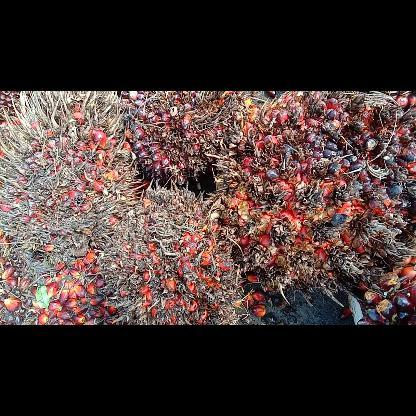Terlalu masak: (212, 91, 416, 309), (0, 90, 150, 262), (102, 183, 254, 323), (122, 91, 264, 189)
